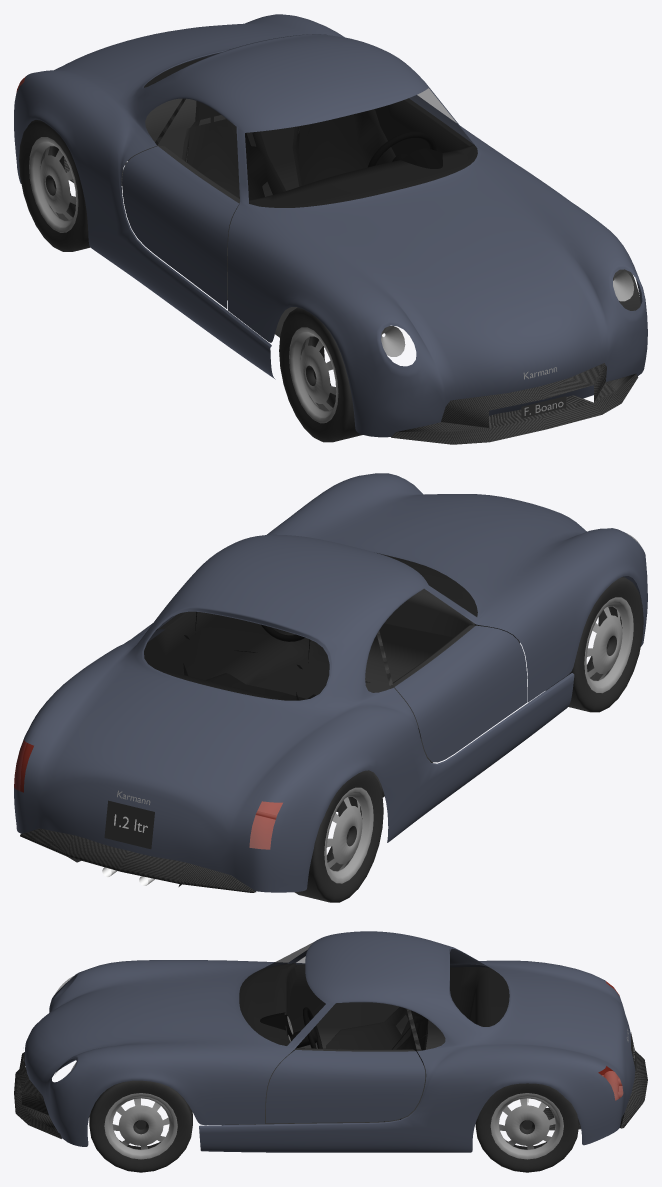
Rendered from karmann-boano.glb.
3 renders of one model, top to bottom at view 1: azimuth 30°, elevation 25°; view 2: azimuth 150°, elevation 25°; view 3: azimuth 270°, elevation 25°, orthographic. The views are drawn at different scales.
Visible parts, largest first — view 1: body, Lathe, Sparco (×2), plate, lamp, Plane; view 2: body, Lathe, plate, plate h, Sparco; view 3: body, Lathe, plate, Sparco (×2).
Part boxes in pixels (x1=…): body: x1=14, y1=14, x2=647, y2=437; Lathe: x1=19, y1=120, x2=640, y2=442; Sparco (×2): x1=182, y1=101, x2=395, y2=271; plate: x1=64, y1=157, x2=638, y2=444; lamp: x1=381, y1=270, x2=633, y2=356; Plane: x1=401, y1=148, x2=442, y2=168; body: x1=14, y1=473, x2=647, y2=892; Lathe: x1=20, y1=577, x2=643, y2=902; plate: x1=20, y1=828, x2=255, y2=892; plate h: x1=104, y1=800, x2=154, y2=849; Sparco: x1=183, y1=612, x2=316, y2=700; body: x1=24, y1=931, x2=635, y2=1152; Lathe: x1=89, y1=1080, x2=578, y2=1172; plate: x1=14, y1=1050, x2=647, y2=1138; Sparco (×2): x1=325, y1=1007, x2=428, y2=1121.
Bounding box in the file's own units: 1.62 × 1.13 × 3.94.
11 materials, 1 textured.
